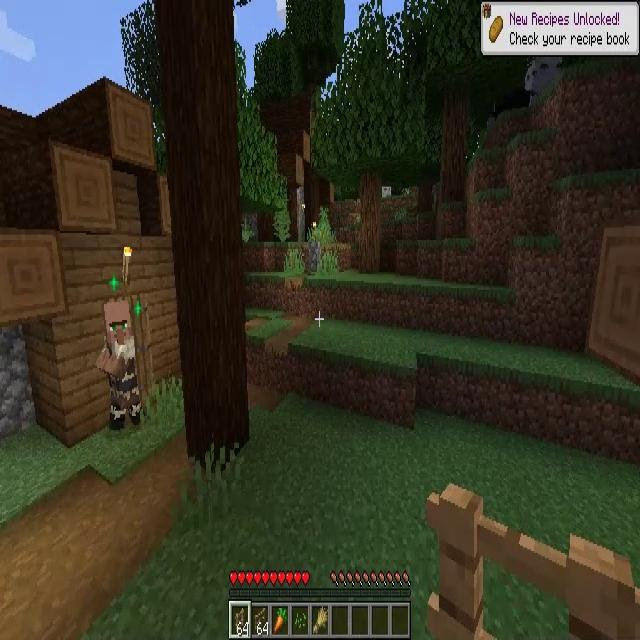people: (94, 300, 140, 430)
